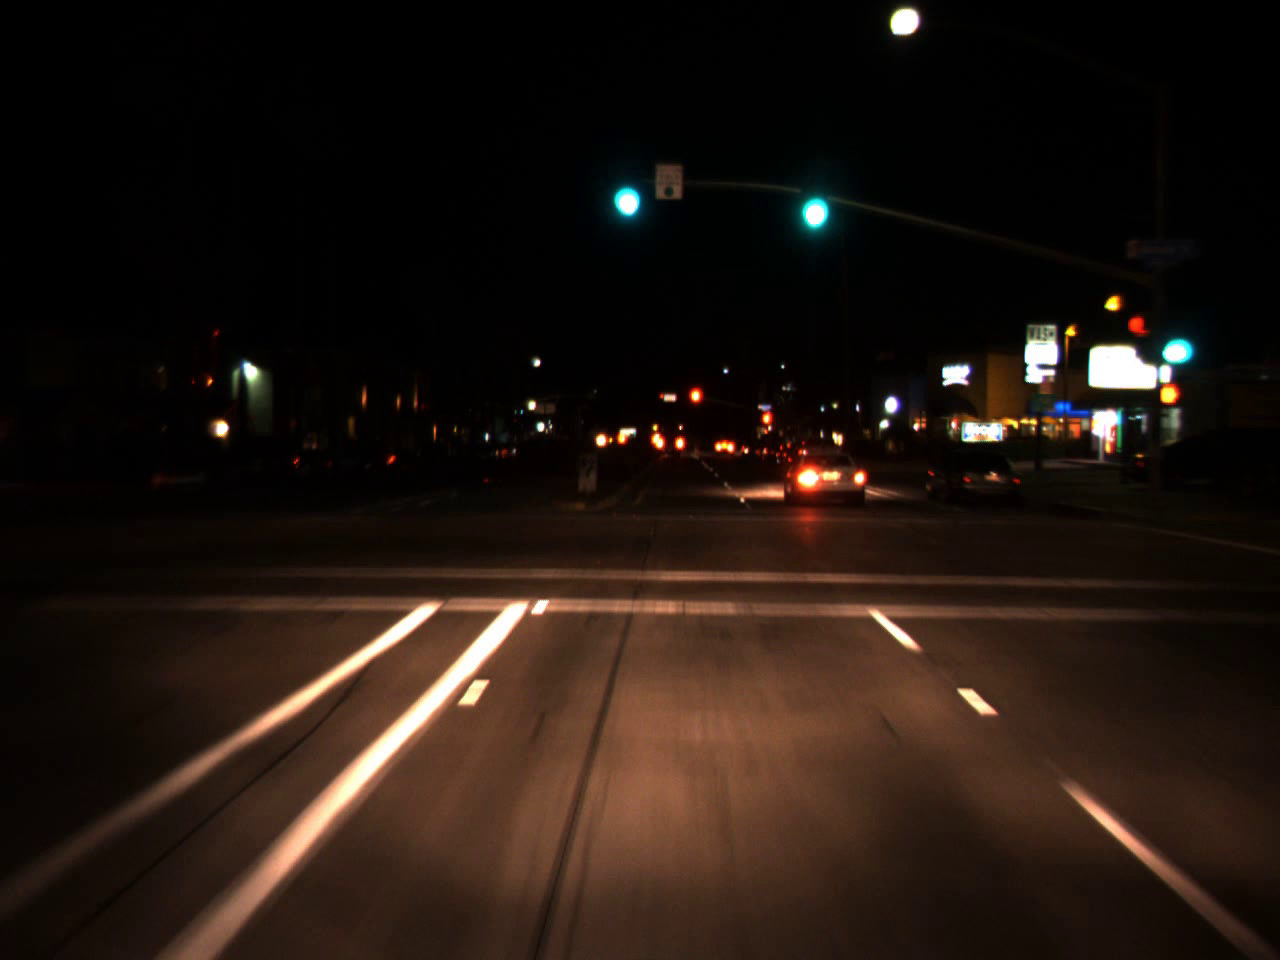go: (790, 155, 835, 242), (603, 150, 646, 228), (1153, 319, 1190, 370)
stop: (687, 384, 705, 421), (761, 409, 773, 441)
